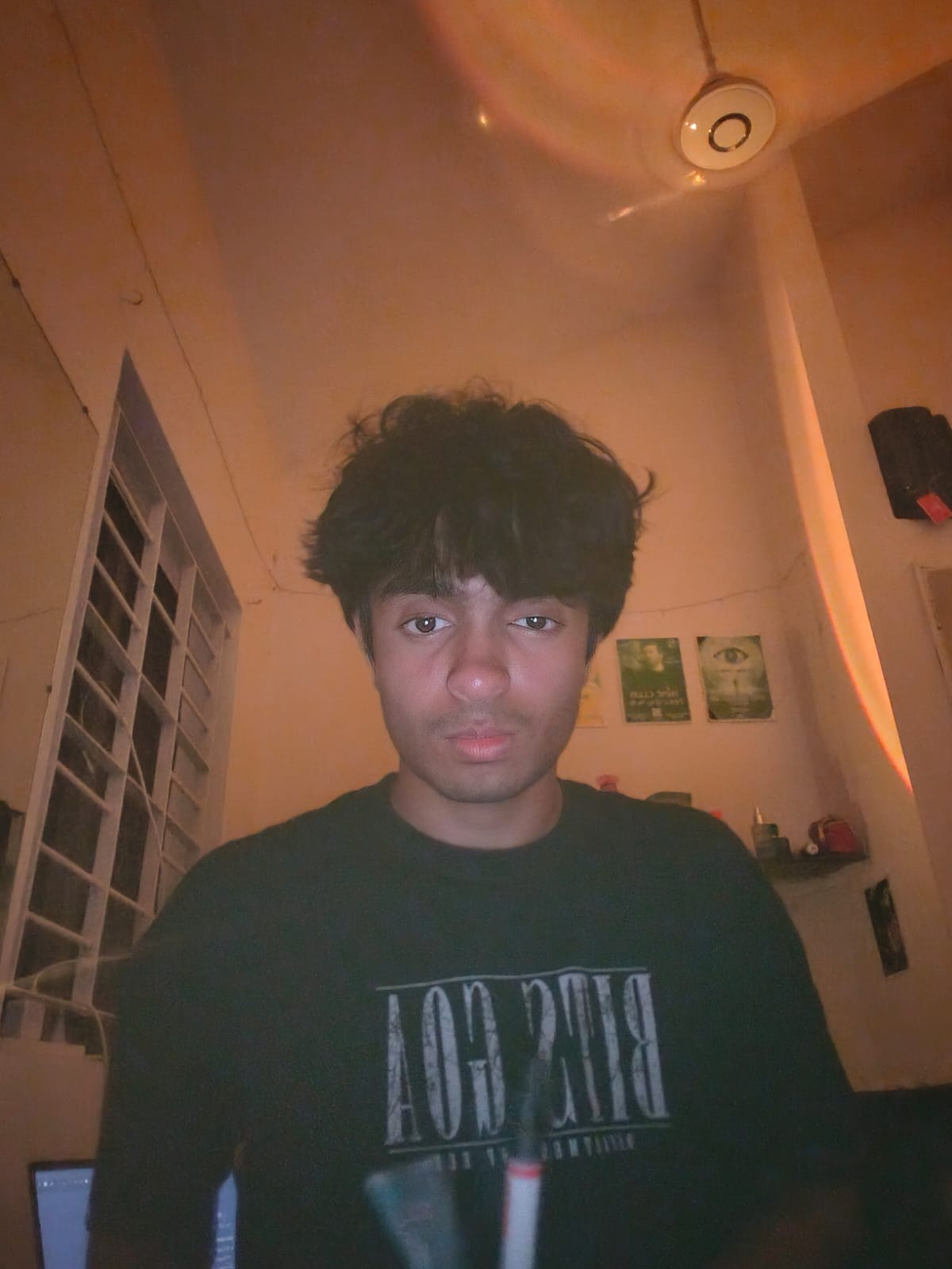case: (508, 1034, 553, 1269)
pen: (354, 1149, 474, 1260)
